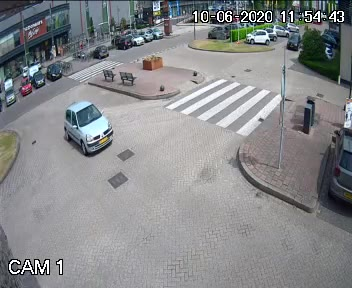car: (59, 98, 114, 153), (280, 32, 302, 51)
